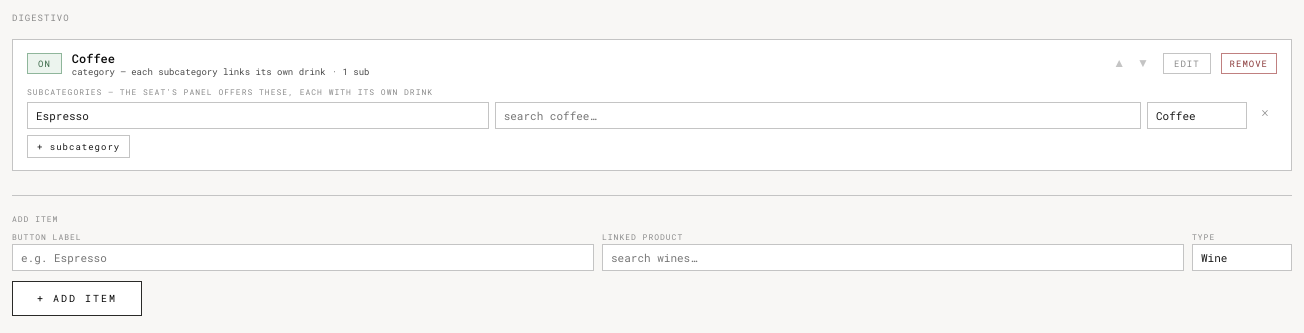
Test case: removing a whole button › deletes on the second click
Click the button with aria-label "Remove Coffee" at (1249, 64), box [1221, 53, 1277, 74]
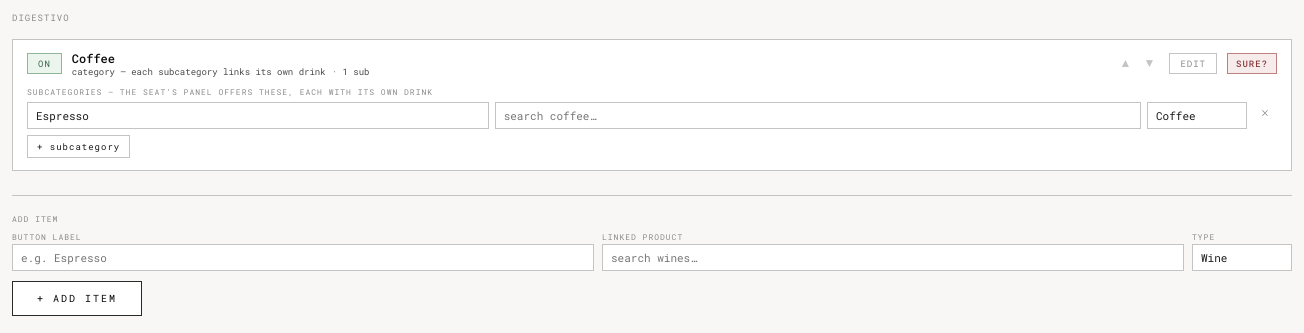
Click the button with aria-label "Confirm remove Coffee" at (1252, 64), box [1227, 53, 1277, 74]
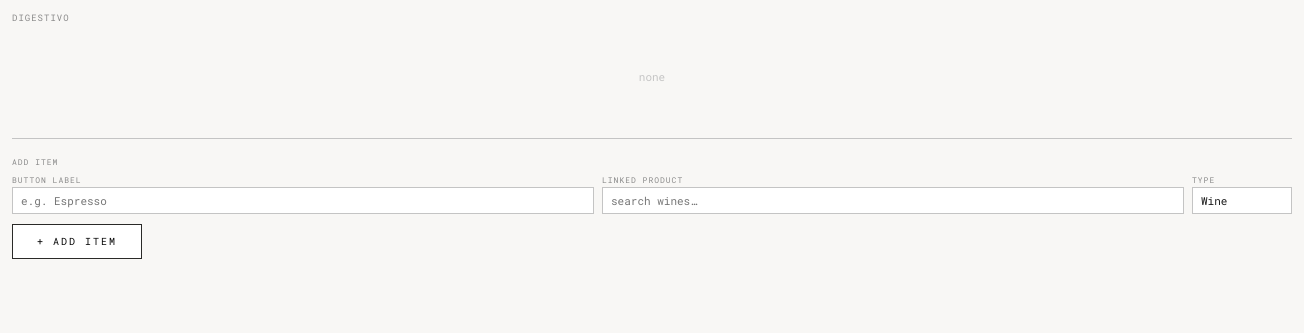
Result: the text "none" is shown at [639, 69, 665, 84]
